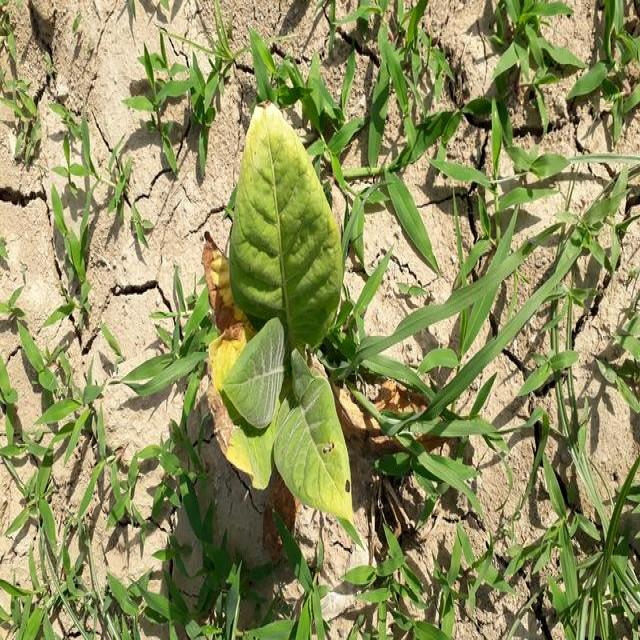crop: (216, 112, 367, 518)
